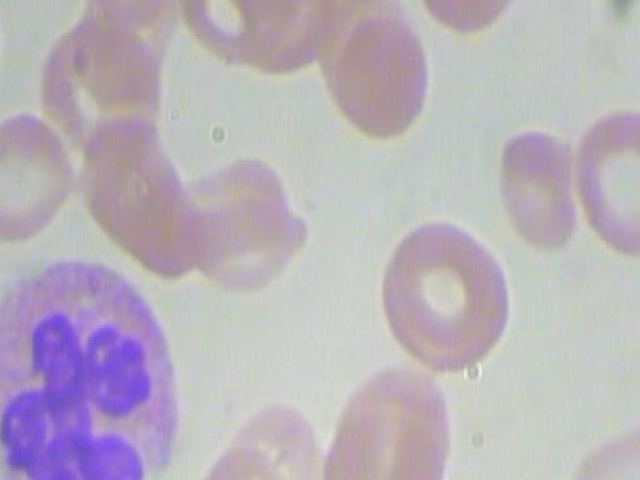RBC: (377, 208, 510, 374), (34, 11, 166, 152), (177, 196, 312, 306), (328, 9, 431, 148), (493, 98, 577, 268), (309, 390, 452, 480), (337, 364, 454, 473), (569, 99, 640, 262), (0, 110, 76, 249), (418, 0, 521, 35), (70, 0, 188, 29), (633, 256, 640, 407)
WBC: (0, 250, 194, 480)
